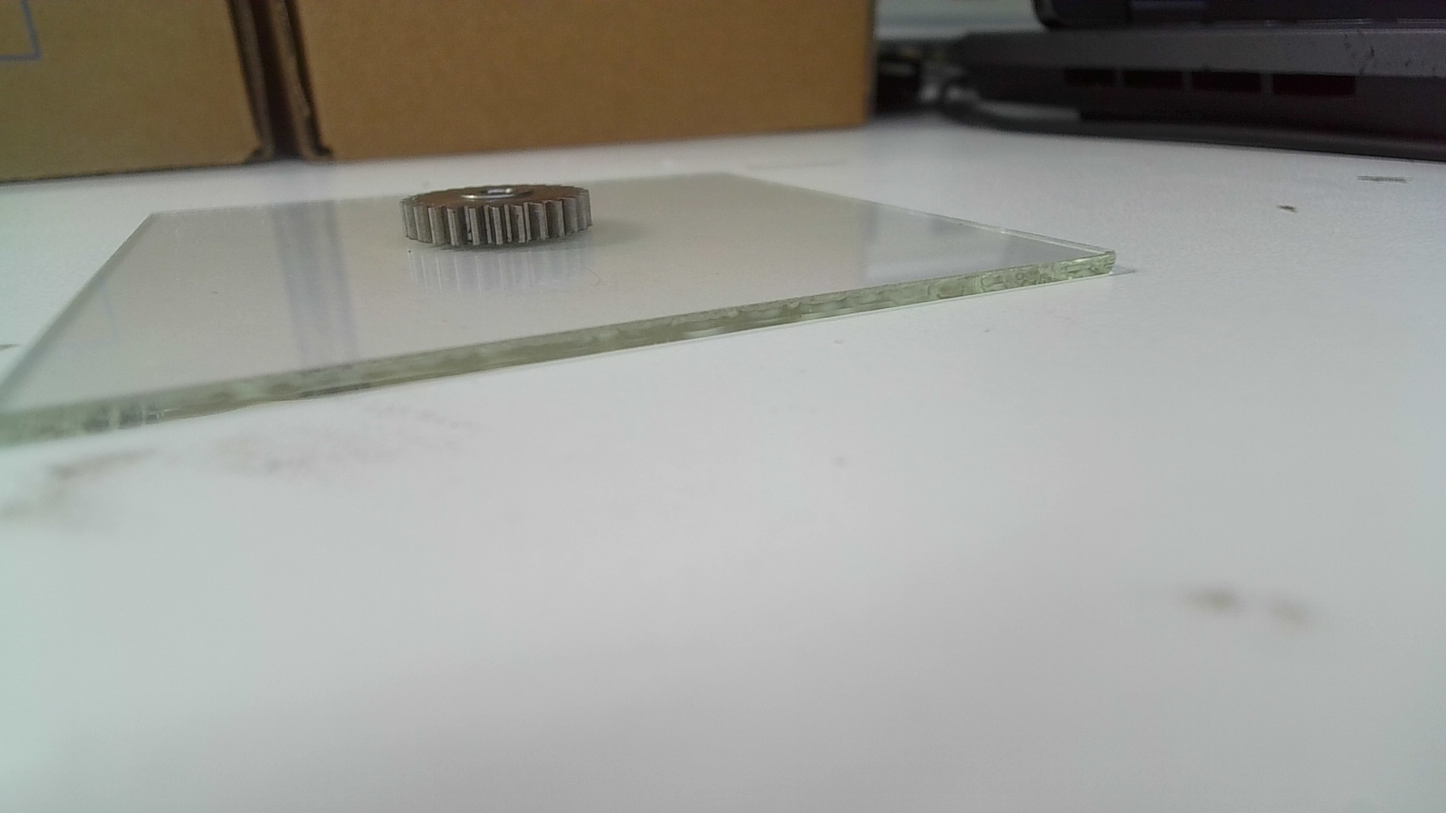gear: (398, 182, 602, 252)
